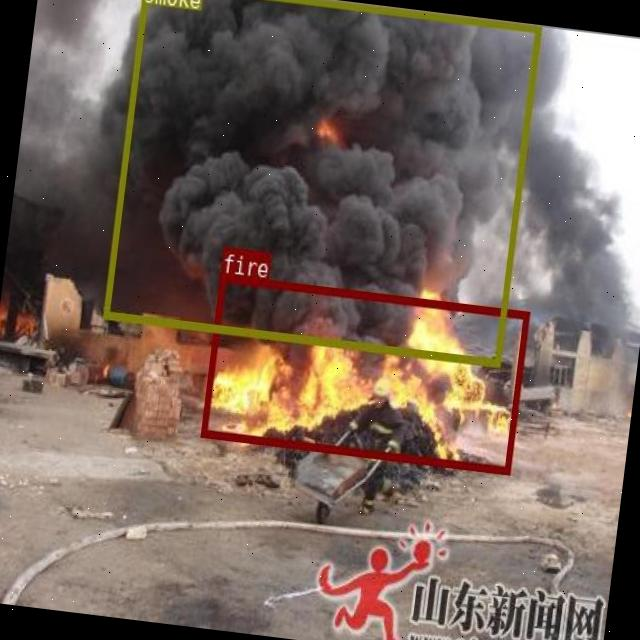fire: (199, 272, 529, 473)
smoke: (102, 0, 540, 364)
